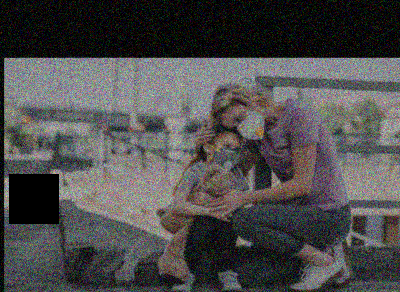with_mask: (230, 108, 266, 139), (210, 140, 242, 171)
